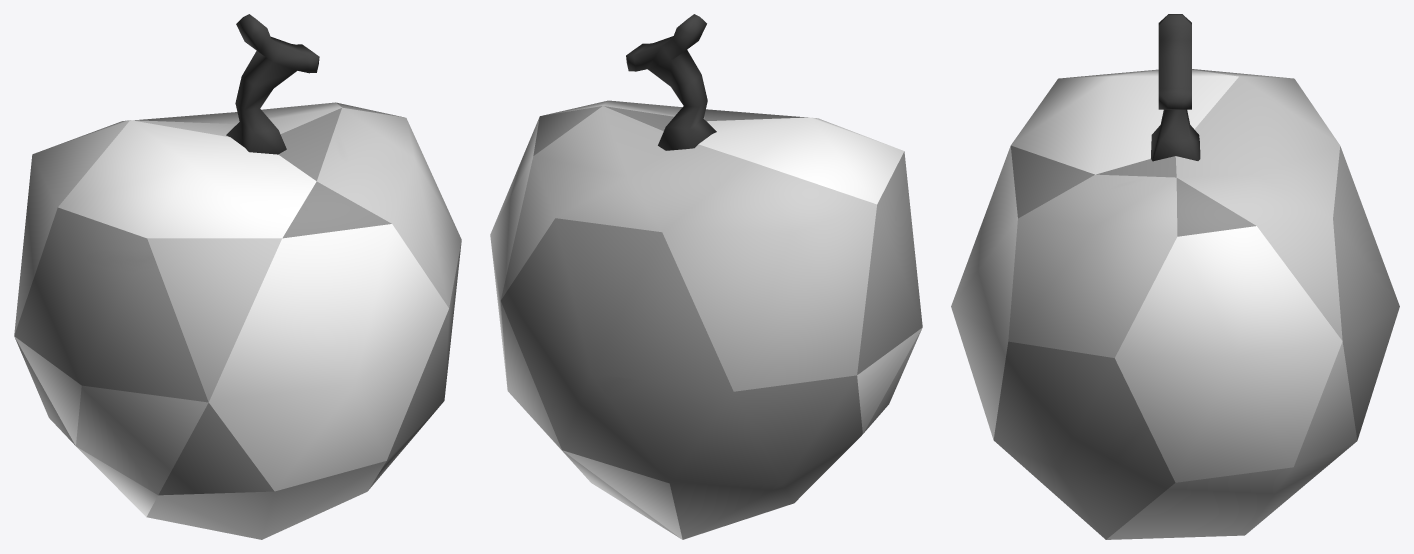
The model's file is fruta.fbx.
3 renders of one model, left to right at view 1: azimuth 30°, elevation 25°; view 2: azimuth 150°, elevation 25°; view 3: azimuth 270°, elevation 25°, orthographic. The views are drawn at different scales.
Visible parts, largest first — view 1: Icosphere; view 2: Icosphere; view 3: Icosphere.
Part boxes in pixels (<box>): Icosphere: <box>14,14,461,539</box>; Icosphere: <box>490,14,922,539</box>; Icosphere: <box>951,14,1399,539</box>.
Bounding box in the file's own units: 777 × 986 × 764.
Materials: 1 (1 with a texture image).
